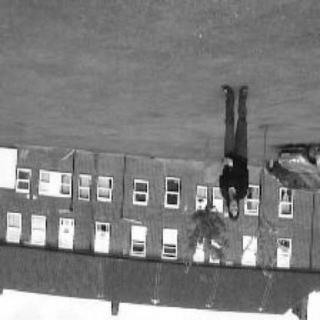other: (205, 154, 229, 188)
